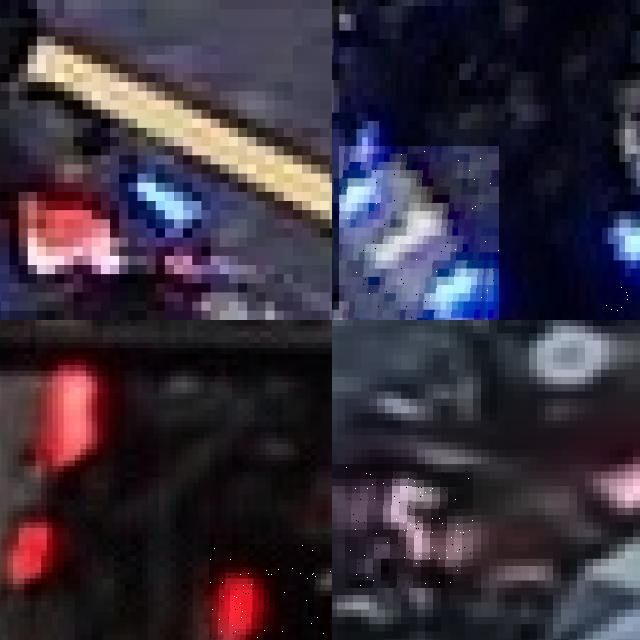B1: (339, 145, 499, 320)
R1: (209, 544, 332, 640)
R5: (345, 464, 473, 588)
